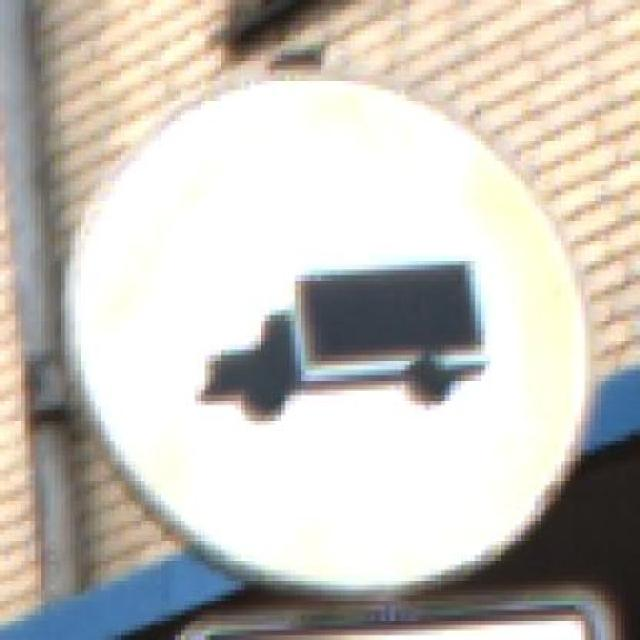Truck traffic is prohibited: (45, 50, 610, 590)
